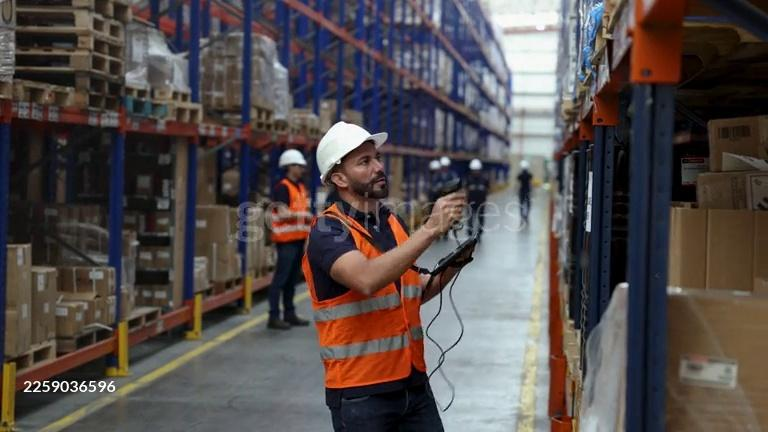helmet: (315, 122, 389, 187), (279, 150, 309, 168), (470, 159, 482, 170), (520, 160, 530, 170), (441, 157, 451, 166)
person: (298, 124, 475, 431), (267, 147, 314, 330), (463, 159, 490, 244), (514, 161, 537, 228), (437, 157, 460, 199)
